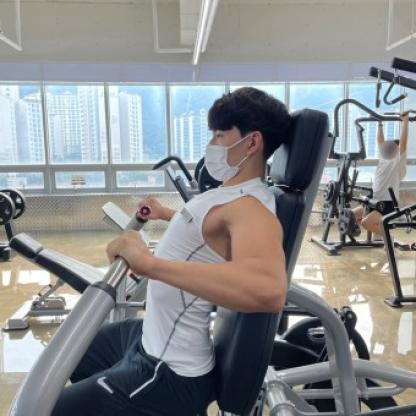Chest Press machine: (6, 81, 416, 416)
